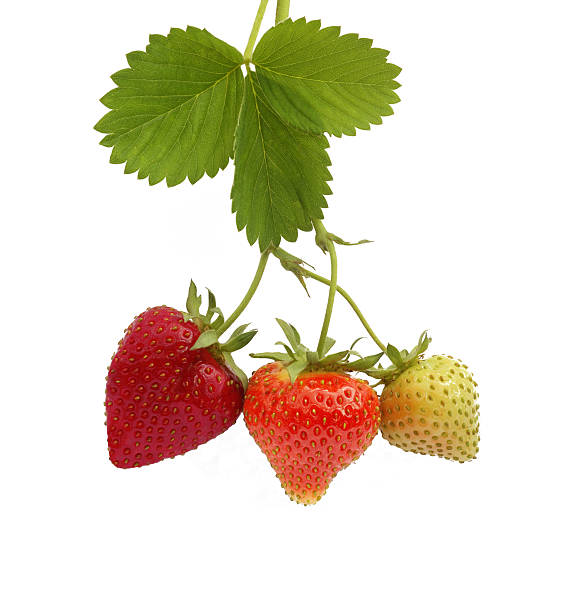Fresa: (95, 301, 248, 480), (242, 353, 383, 508)
